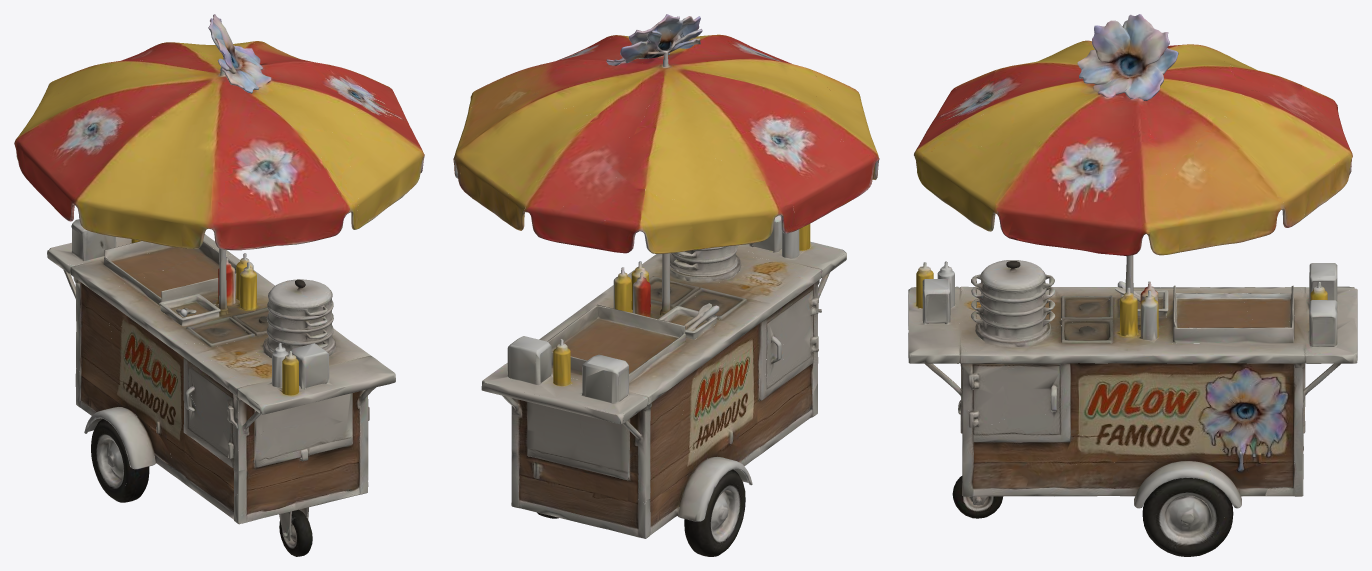
File: hotdog.glb
3 views of the same model, side by side, from view 1: azimuth 30°, elevation 25°; view 2: azimuth 150°, elevation 25°; view 3: azimuth 270°, elevation 25° (orthographic). The views are drawn at different scales.
Visible parts, largest first — view 1: tripo_node_e25accba-6ed8-44d8-9611-c989d3f0a4cc; view 2: tripo_node_e25accba-6ed8-44d8-9611-c989d3f0a4cc; view 3: tripo_node_e25accba-6ed8-44d8-9611-c989d3f0a4cc.
Part boxes in pixels (x1,y1,x2,y2): tripo_node_e25accba-6ed8-44d8-9611-c989d3f0a4cc: [14, 14, 424, 556]; tripo_node_e25accba-6ed8-44d8-9611-c989d3f0a4cc: [453, 14, 879, 556]; tripo_node_e25accba-6ed8-44d8-9611-c989d3f0a4cc: [908, 14, 1357, 556].
Bounding box in the file's own units: 0.7708 × 1 × 0.8147.
Materials: 1 (1 with a texture image).
